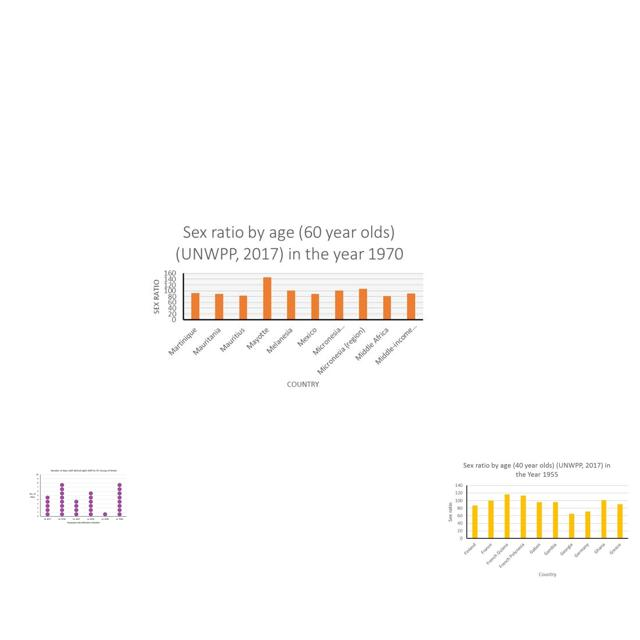Graph: (145, 215, 429, 397), (443, 458, 631, 581), (26, 468, 129, 526)
